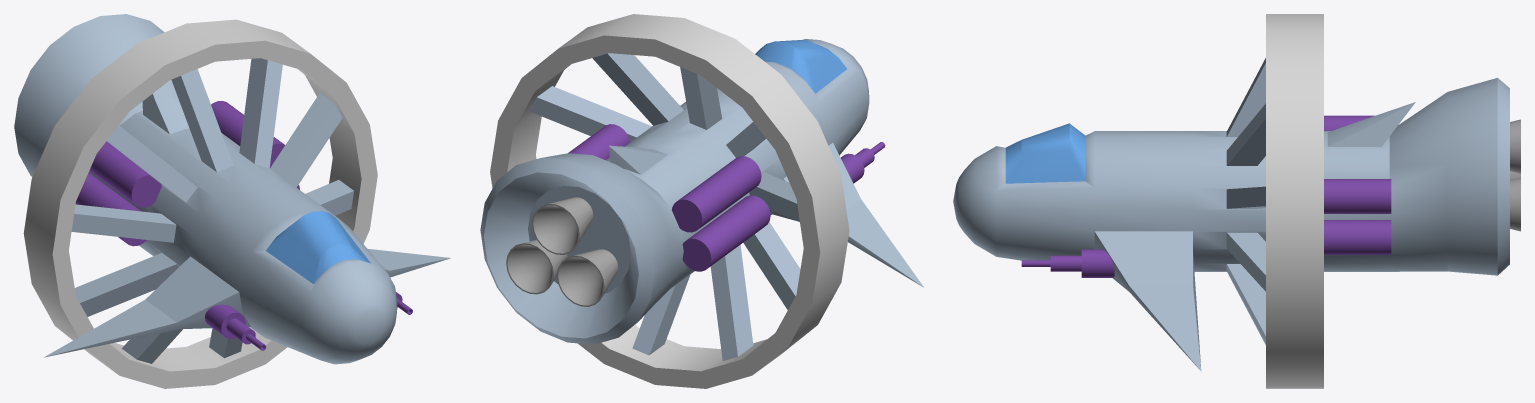
File: Spaceship_FBX.fbx
3 renders of one model, left to right at view 1: azimuth 30°, elevation 25°; view 2: azimuth 150°, elevation 25°; view 3: azimuth 270°, elevation 25°, orthographic.
Parts seen in each view (by area): view 1: pCylinder1, pPipe1, pCylinder7, pCylinder8, pCylinder4, pCylinder6; view 2: pCylinder1, pPipe1, pCylinder4, pCylinder7, pPipe2, pPipe4, pPipe3, pCylinder6, pCylinder8; view 3: pCylinder1, pPipe1, pCylinder5, pCylinder6, pCylinder2, pPipe2, pPipe3, pCylinder7.
Part boxes in pixels (box(x1,y1,x2,y2)): pCylinder1: box(14, 14, 450, 364); pPipe1: box(23, 19, 377, 388); pCylinder7: box(89, 141, 161, 207); pCylinder8: box(205, 304, 266, 350); pCylinder4: box(75, 172, 146, 246); pCylinder6: box(211, 101, 284, 167); pCylinder1: box(480, 39, 923, 360); pPipe1: box(490, 14, 849, 388); pCylinder4: box(682, 195, 770, 271); pCylinder7: box(672, 156, 761, 232); pPipe2: box(532, 197, 593, 254); pPipe4: box(557, 249, 618, 306); pPipe3: box(506, 240, 567, 294); pCylinder6: box(568, 124, 629, 160); pCylinder8: box(841, 142, 885, 183); pCylinder1: box(953, 58, 1509, 371); pPipe1: box(1266, 14, 1323, 388); pCylinder5: box(1324, 220, 1391, 254); pCylinder6: box(1324, 179, 1391, 213); pCylinder2: box(1021, 249, 1114, 277); pPipe2: box(1510, 119, 1520, 173); pPipe3: box(1510, 177, 1520, 231); pCylinder7: box(1324, 115, 1374, 130).
Bounding box in the file's own units: 6.7 × 5.33 × 8.01.
